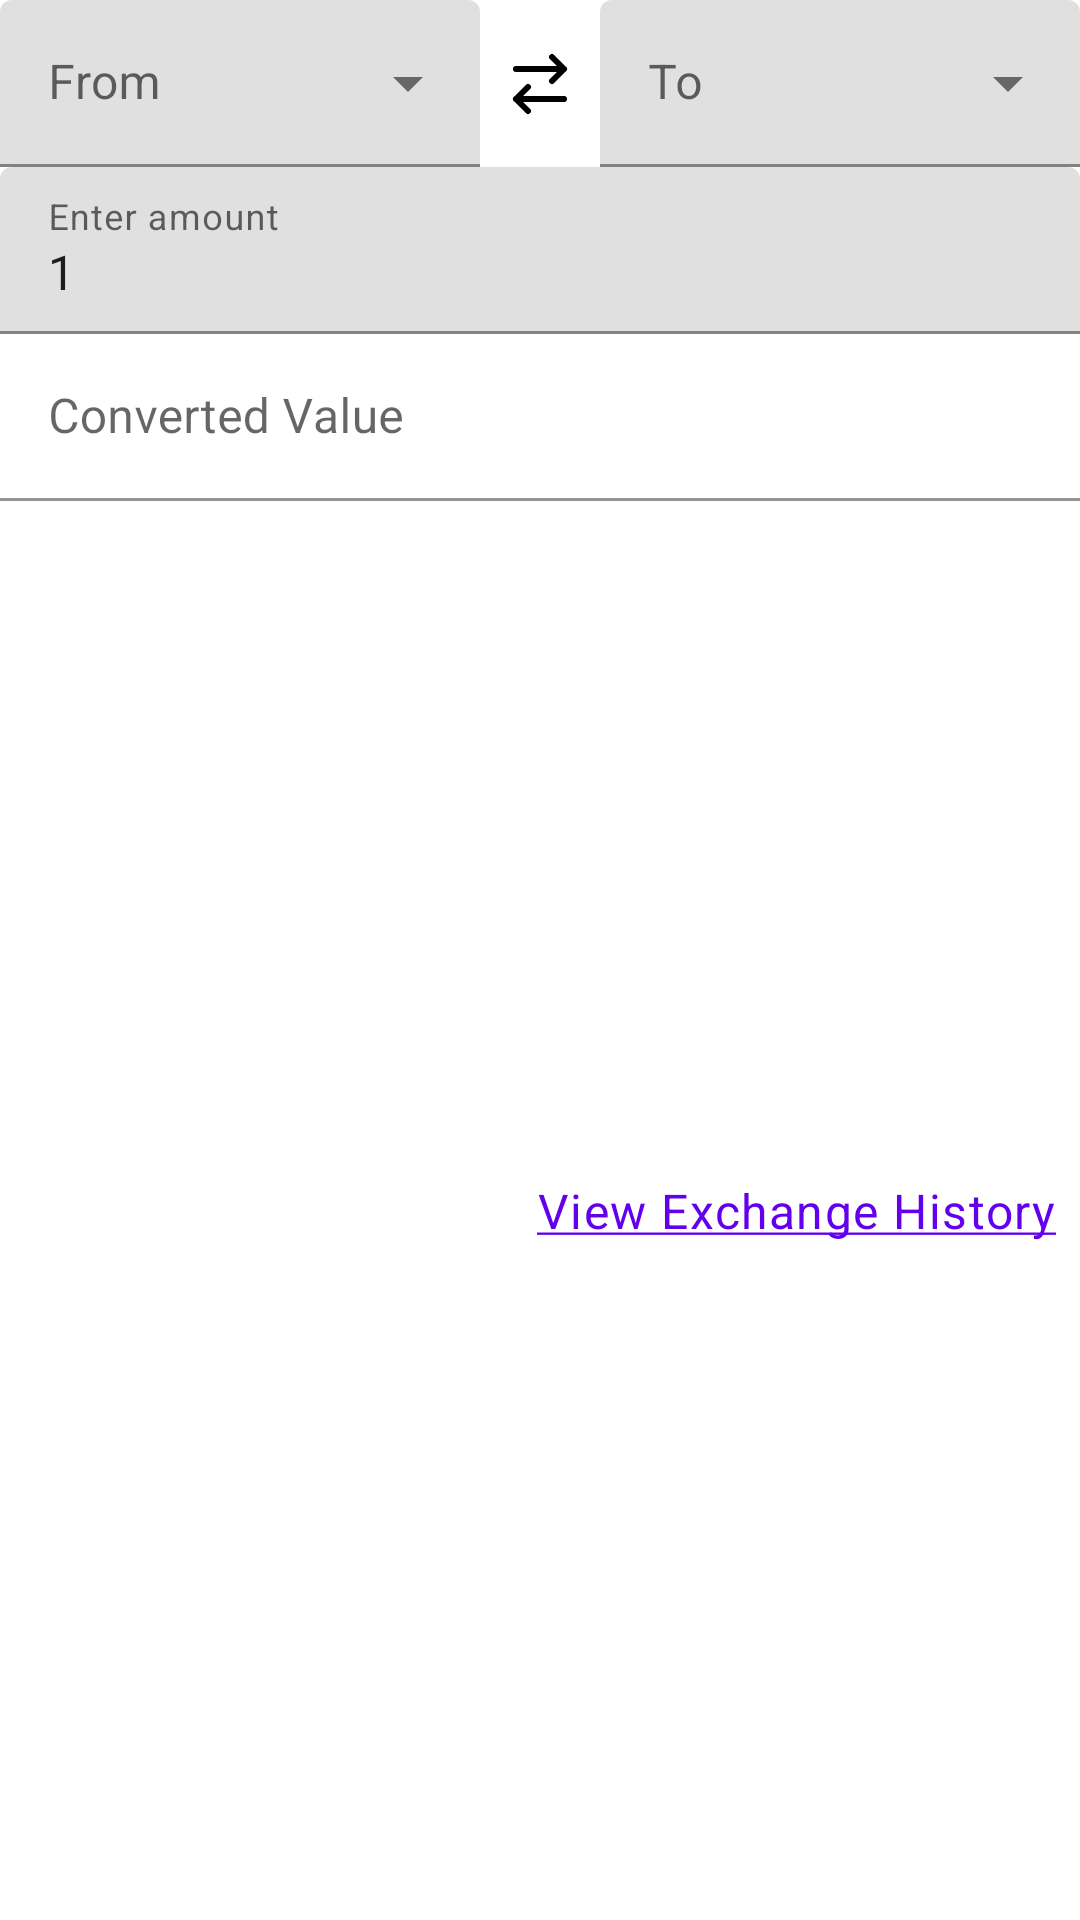

Where to tap for icons on this 1080px x 1920px app screen, as (x=x, y=y):
switch: (x=540, y=84)
